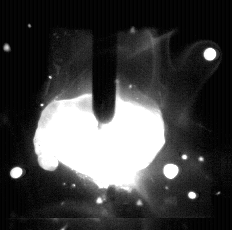arame: (93, 0, 117, 123)
poca: (35, 0, 165, 230)
